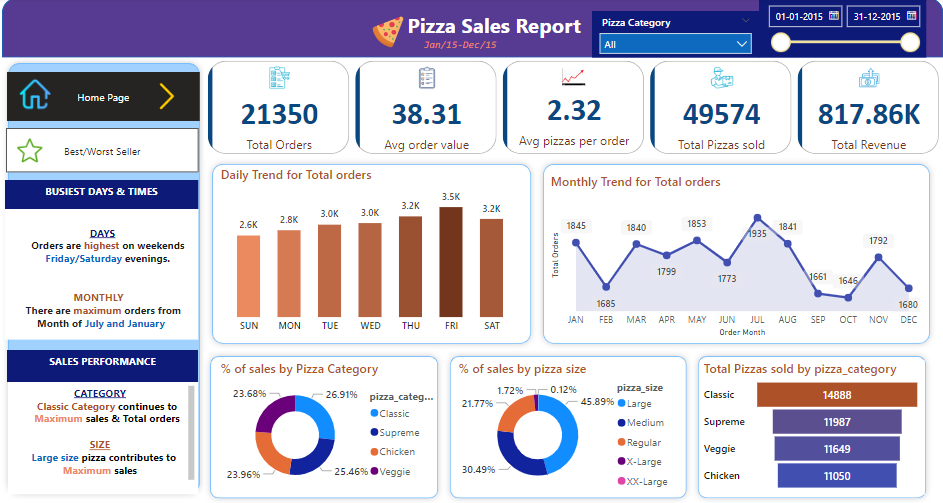

This screenshot's page, from the dashboard's own definition file:
{"tool":"powerbi","page":{"name":"Home Page","canvas":[1280,720],"ordinal":0},"visuals":[{"type":"shape","box":[26.2,77.2,267.1,579.9],"z":0},{"type":"cardVisual","fields":{"Data":["pizza_sales.Total Orders","pizza_sales.Avg order value","pizza_sales.Avg pizzas per order","pizza_sales.Total Pizzas sold","pizza_sales.Total Revenue"]},"box":[290,77.5,967.5,132.5],"z":1000},{"type":"shape","box":[25.6,0,1232.2,77.8],"z":2000},{"type":"textbox","box":[542.2,12.2,256.7,54.4],"z":3000},{"type":"textbox","box":[542.2,45.6,167.8,32.2],"z":4000},{"type":"image","box":[497.8,18.9,67.8,52.2],"z":5000},{"type":"shape","box":[293.3,210,433.3,251.1],"z":6000},{"type":"shape","box":[726.7,210,522.2,251.1],"z":7000},{"type":"columnChart","title":"Daily Trend for Total orders","fields":{"Y":["pizza_sales.Total Orders"],"Category":["pizza_sales.Order Day"]},"box":[307.8,220,402.2,227.8],"z":8000},{"type":"areaChart","title":"Monthly Trend for Total orders","fields":{"Y":["pizza_sales.Total Orders"],"Category":["pizza_sales.Order Month"]},"box":[740,228.9,494.4,218.9],"z":9000},{"type":"shape","box":[290,461.1,314.4,202.2],"z":10000},{"type":"shape","box":[604.4,461.1,325.6,202.2],"z":11000},{"type":"shape","box":[930,461.1,314.4,202],"z":12000},{"type":"donutChart","title":"% of sales by Pizza Category","fields":{"Category":["pizza_sales.pizza_category"],"Y":["pizza_sales.Total Revenue"]},"box":[307.8,474.4,296.7,175.6],"z":13000},{"type":"donutChart","title":"% of sales by pizza size","fields":{"Y":["pizza_sales.Total Revenue"],"Category":["pizza_sales.pizza_size"]},"box":[618.9,474.4,296.7,175.6],"z":14000},{"type":"funnel","fields":{"Category":["pizza_sales.pizza_category"],"Y":["pizza_sales.Total Pizzas sold"]},"box":[940,474.4,294.4,175.6],"z":15000},{"type":"textbox","box":[30.1,238.3,252.7,38],"z":16000},{"type":"textbox","box":[30.1,276.2,252.7,171.5],"z":17000},{"type":"textbox","box":[32.7,460.8,250,41.9],"z":18000},{"type":"textbox","box":[34,502.7,248.7,146.6],"z":19000},{"type":"slicer","fields":{"Values":["pizza_sales.pizza_category"]},"box":[798.9,16.7,218.9,61.1],"z":20000},{"type":"slicer","fields":{"Values":["pizza_sales.order_date"]},"box":[1017.8,0,218.9,77.8],"z":21000},{"type":"pageNavigator","box":[32.7,96.9,252.7,64.1],"z":21001},{"type":"pageNavigator","box":[31.4,170.2,252.7,58.9],"z":21002},{"type":"image","box":[201.6,106.6,80.6,44.6],"z":21003},{"type":"image","box":[40.3,100.8,57.6,50.4],"z":21004},{"type":"image","box":[34,178,57.6,43.2],"z":21005}]}

Visuals, with their boxes on the page's 1280x720 design canvas (x1, y1, x2, y2). These are canvas units, not pixel positions in the 943x503 screenshot, which may show the page scaled, cropped or inside an application window:
shape: {"left": 26, "top": 77, "right": 293, "bottom": 657}
cardVisual - pizza_sales.Total Orders x pizza_sales.Avg order value: {"left": 290, "top": 78, "right": 1258, "bottom": 210}
shape: {"left": 26, "top": 0, "right": 1258, "bottom": 78}
textbox: {"left": 542, "top": 12, "right": 799, "bottom": 67}
textbox: {"left": 542, "top": 46, "right": 710, "bottom": 78}
image: {"left": 498, "top": 19, "right": 566, "bottom": 71}
shape: {"left": 293, "top": 210, "right": 727, "bottom": 461}
shape: {"left": 727, "top": 210, "right": 1249, "bottom": 461}
"Daily Trend for Total orders" columnChart: {"left": 308, "top": 220, "right": 710, "bottom": 448}
"Monthly Trend for Total orders" areaChart: {"left": 740, "top": 229, "right": 1234, "bottom": 448}
shape: {"left": 290, "top": 461, "right": 604, "bottom": 663}
shape: {"left": 604, "top": 461, "right": 930, "bottom": 663}
shape: {"left": 930, "top": 461, "right": 1244, "bottom": 663}
"% of sales by Pizza Category" donutChart: {"left": 308, "top": 474, "right": 604, "bottom": 650}
"% of sales by pizza size" donutChart: {"left": 619, "top": 474, "right": 916, "bottom": 650}
funnel - pizza_sales.pizza_category x pizza_sales.Total Pizzas sold: {"left": 940, "top": 474, "right": 1234, "bottom": 650}
textbox: {"left": 30, "top": 238, "right": 283, "bottom": 276}
textbox: {"left": 30, "top": 276, "right": 283, "bottom": 448}
textbox: {"left": 33, "top": 461, "right": 283, "bottom": 503}
textbox: {"left": 34, "top": 503, "right": 283, "bottom": 649}
slicer - pizza_sales.pizza_category: {"left": 799, "top": 17, "right": 1018, "bottom": 78}
slicer - pizza_sales.order_date: {"left": 1018, "top": 0, "right": 1237, "bottom": 78}
pageNavigator: {"left": 33, "top": 97, "right": 285, "bottom": 161}
pageNavigator: {"left": 31, "top": 170, "right": 284, "bottom": 229}
image: {"left": 202, "top": 107, "right": 282, "bottom": 151}
image: {"left": 40, "top": 101, "right": 98, "bottom": 151}
image: {"left": 34, "top": 178, "right": 92, "bottom": 221}
